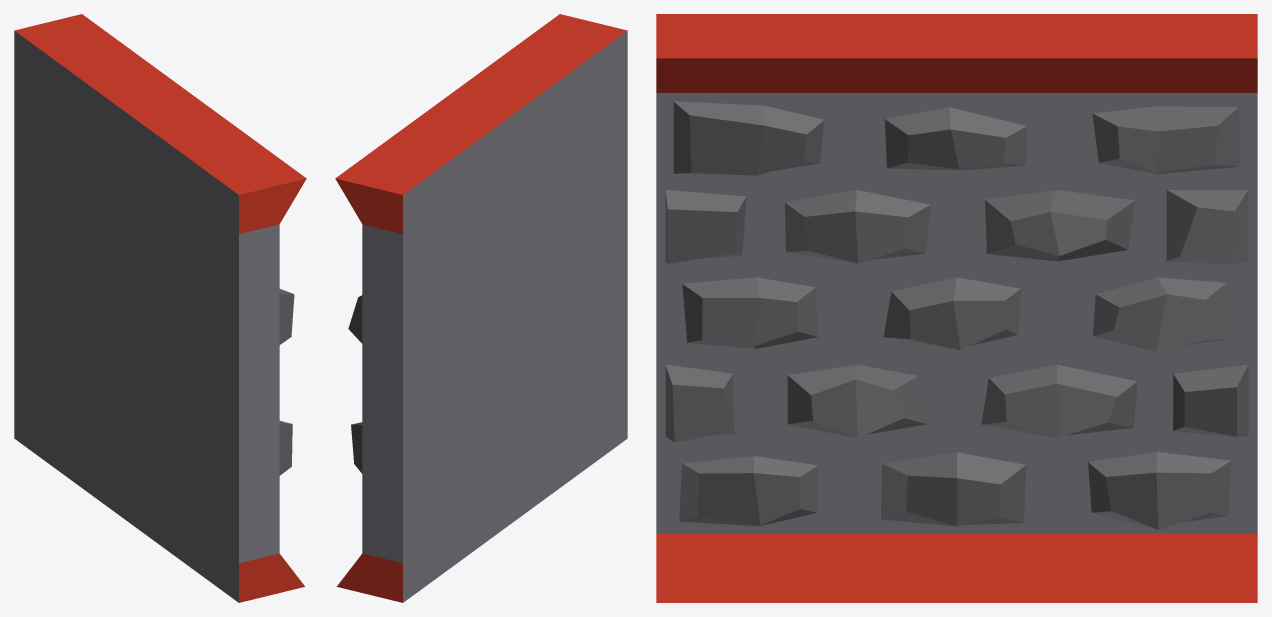
The model's file is DungeonTile_Wall.fbx.
3 views of the same model, side by side, from view 1: azimuth 30°, elevation 25°; view 2: azimuth 150°, elevation 25°; view 3: azimuth 270°, elevation 25° (orthographic). The views are drawn at different scales.
Parts seen in each view (by area): view 1: Dungeon_Wall; view 2: Dungeon_Wall; view 3: Dungeon_Wall.
Boxes of the visible parts, x1=… form: Dungeon_Wall: x1=14, y1=14, x2=306, y2=602; Dungeon_Wall: x1=335, y1=14, x2=627, y2=602; Dungeon_Wall: x1=656, y1=14, x2=1257, y2=602.
Bounding box in the file's own units: 34.84 × 200 × 200.
